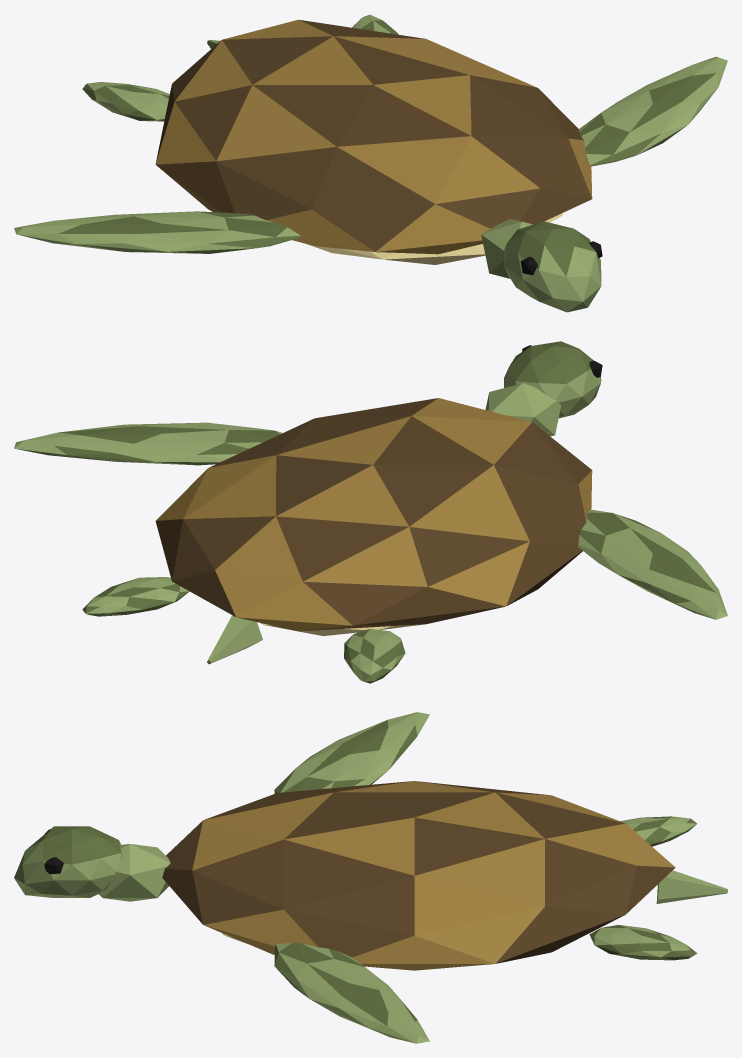
The model's file is sea_turtle.fbx.
3 views of the same model, one above another, from view 1: azimuth 30°, elevation 25°; view 2: azimuth 150°, elevation 25°; view 3: azimuth 270°, elevation 25° (orthographic). The views are drawn at different scales.
Parts seen in each view (by area): view 1: Shell, Flipper_FL, Head, Flipper_FR, Flipper_BL; view 2: Shell, Flipper_FR, Flipper_FL, Head, Flipper_BR, Flipper_BL; view 3: Shell, Head, Flipper_FR, Flipper_FL, Flipper_BR, Flipper_BL.
Part boxes in pixels (x1,y1,x2,y2): Shell: (155, 19, 592, 264); Flipper_FL: (14, 211, 300, 253); Head: (481, 219, 602, 312); Flipper_FR: (579, 57, 727, 166); Flipper_BL: (82, 82, 169, 121); Shell: (155, 398, 592, 664); Flipper_FR: (14, 422, 282, 465); Flipper_FL: (578, 509, 727, 619); Head: (485, 341, 602, 436); Flipper_BR: (82, 577, 189, 616); Flipper_BL: (344, 629, 405, 683); Shell: (162, 781, 727, 970); Head: (14, 826, 170, 901); Flipper_FR: (274, 942, 429, 1043); Flipper_FL: (274, 712, 429, 793); Flipper_BR: (589, 925, 697, 960); Flipper_BL: (620, 816, 697, 846).
Bounding box in the file's own units: 1.35 × 0.2 × 1.23.
